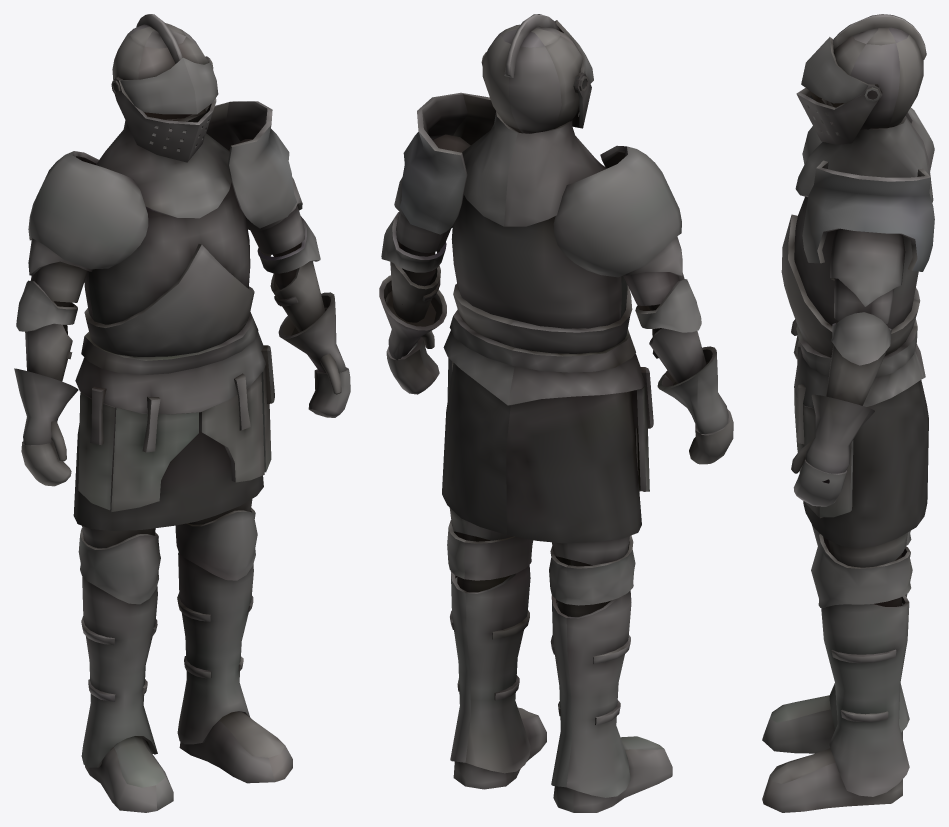
Rendered from armor.glb.
The picture shows the model from 3 angles, left to right: view 1: azimuth 30°, elevation 25°; view 2: azimuth 150°, elevation 25°; view 3: azimuth 270°, elevation 25°; orthographic projection. The views are drawn at different scales.
Visible parts, largest first — view 1: Object_4; view 2: Object_4; view 3: Object_4.
Part boxes in pixels (left/top/right/bottom): Object_4: left=14, top=14, right=350, bottom=812; Object_4: left=379, top=14, right=733, bottom=812; Object_4: left=762, top=14, right=934, bottom=812.
Bounding box in the file's own units: 2.02 × 4.41 × 0.9146.
1 material, 1 textured.
